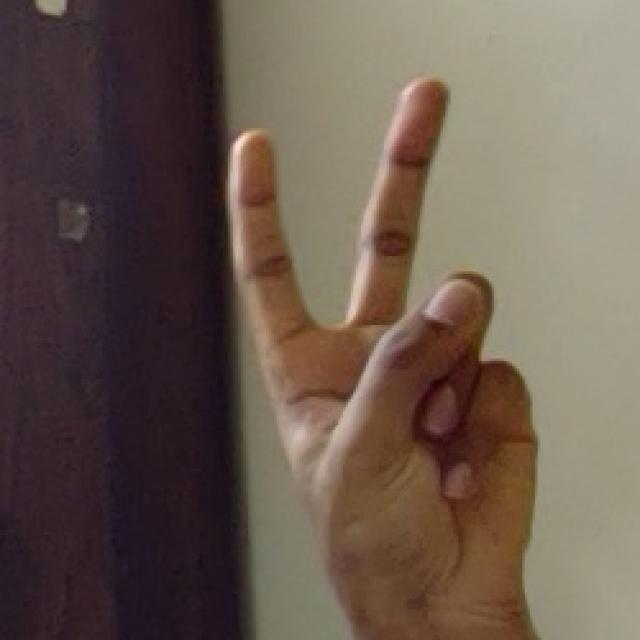Numeric-2: (231, 70, 540, 603)
